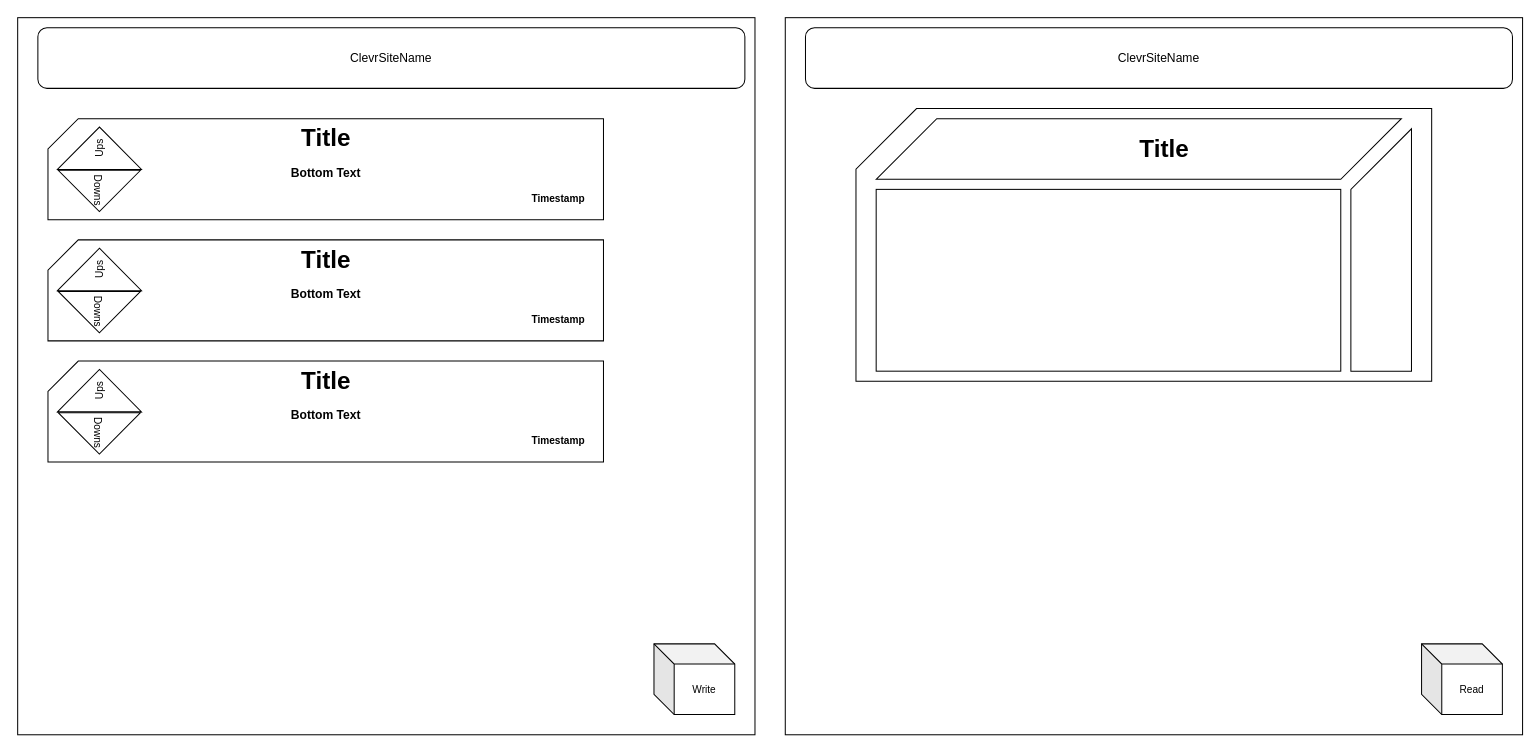
The diagram is 1540 pixels wide and 752 high, and some of its shapes have lost their labels. The shapes that lost their labels are listed below. From the top down, each one's centre as x and y in pixels, then its label:
At [1380,249]: "Post".
At [1108,279]: "type your bad opinions here".
